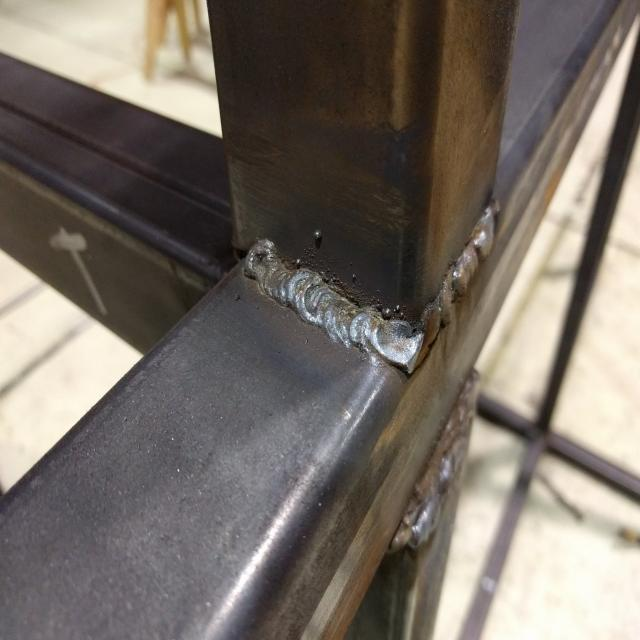Bad Weld: (250, 243, 405, 367), (433, 207, 499, 346)
